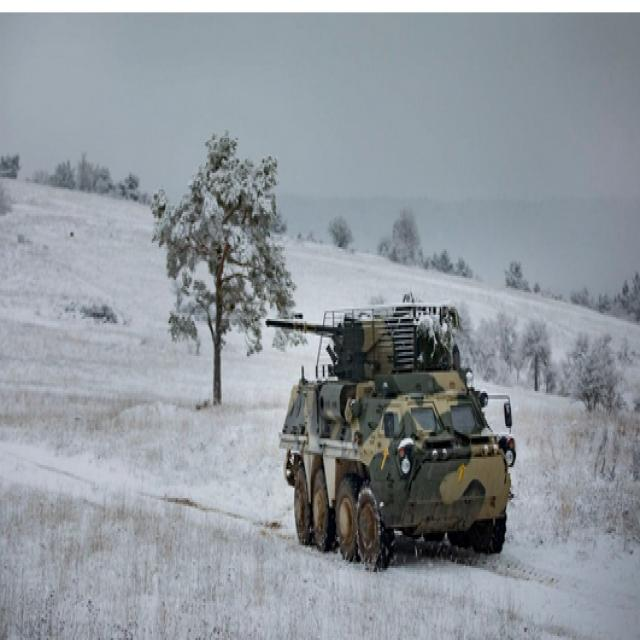MIL_APC: (264, 306, 538, 586)
